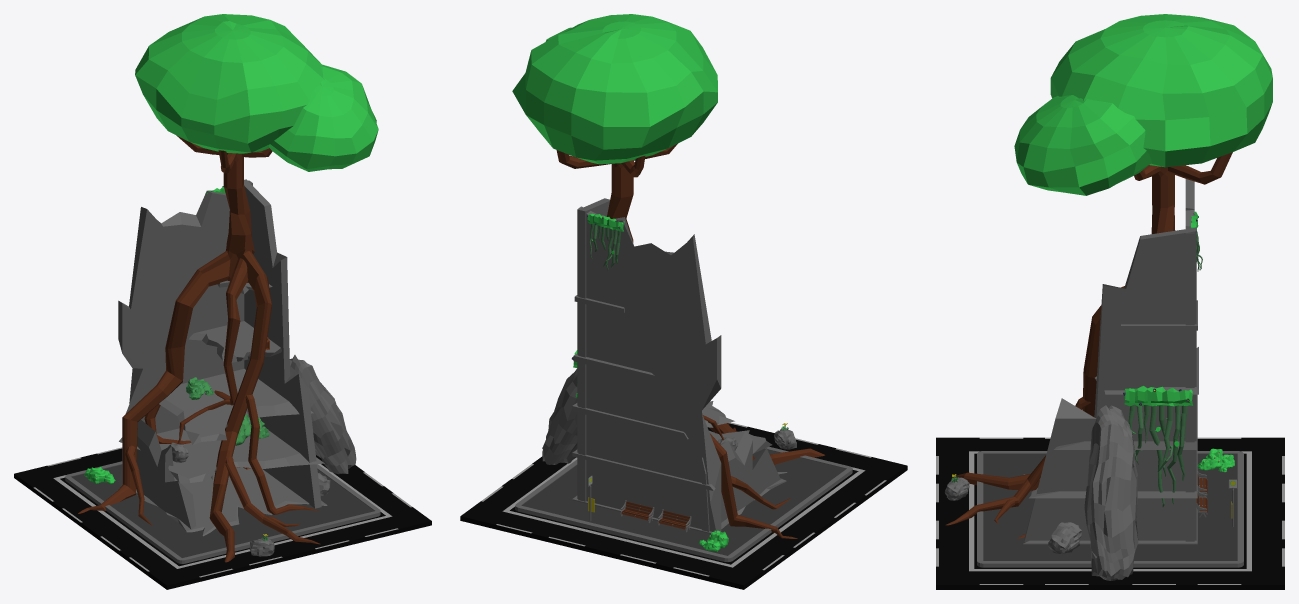
File: RuinTileFertig.glb
3 renders of one model, left to right at view 1: azimuth 30°, elevation 25°; view 2: azimuth 150°, elevation 25°; view 3: azimuth 270°, elevation 25°, orthographic. The views are drawn at different scales.
Parts seen in each view (by area): view 1: BaumKrone, StammeRuin-col, Wall2-col, StreetRuin-col, SideWalkRuin-col, Wall1-col, BaumKrone.001, Floor2-col, Floor1-col, Floor0EG-col, RockRuin3-col, Wall3-col (+1 smaller); view 2: Wall2-col, BaumKrone, StreetRuin-col, SideWalkRuin-col, StammeRuin-col, Wall1-col, Wall3-col, RockRuin3-col, Floor1-col, Floor2-col, TentakelRanke.002, Floor3-col; view 3: BaumKrone, Wall1-col, StreetRuin-col, SideWalkRuin-col, BaumKrone.001, RockRuin3-col, StammeRuin-col, TentakelRanke.001, Wall2-col, Floor1-col, RockRuin5-col, Floor2-col (+3 smaller).
Boxes of the visible parts, bbox=[...] form: BaumKrone: bbox=[135, 14, 325, 153]; StammeRuin-col: bbox=[78, 135, 320, 562]; Wall2-col: bbox=[118, 180, 252, 485]; StreetRuin-col: bbox=[14, 447, 431, 589]; SideWalkRuin-col: bbox=[65, 461, 380, 563]; Wall1-col: bbox=[244, 179, 321, 508]; BaumKrone.001: bbox=[269, 64, 378, 171]; Floor2-col: bbox=[159, 368, 313, 444]; Floor1-col: bbox=[119, 426, 324, 483]; Floor0EG-col: bbox=[118, 467, 327, 536]; RockRuin3-col: bbox=[289, 355, 356, 474]; Wall3-col: bbox=[136, 419, 196, 529]; Wall2-col: bbox=[577, 206, 721, 531]; BaumKrone: bbox=[512, 14, 717, 164]; StreetRuin-col: bbox=[460, 422, 907, 589]; SideWalkRuin-col: bbox=[515, 446, 852, 561]; StammeRuin-col: bbox=[556, 143, 824, 538]; Wall1-col: bbox=[578, 198, 609, 501]; Wall3-col: bbox=[702, 431, 780, 531]; RockRuin3-col: bbox=[542, 368, 577, 464]; Floor1-col: bbox=[572, 430, 772, 490]; Floor2-col: bbox=[572, 401, 734, 439]; TentakelRanke.002: bbox=[587, 213, 624, 270]; Floor3-col: bbox=[573, 354, 657, 381]; BaumKrone: bbox=[1050, 14, 1272, 167]; Wall1-col: bbox=[1024, 227, 1196, 541]; StreetRuin-col: bbox=[936, 437, 1284, 589]; SideWalkRuin-col: bbox=[977, 451, 1243, 567]; BaumKrone.001: bbox=[1014, 95, 1151, 195]; RockRuin3-col: bbox=[1084, 405, 1138, 580]; StammeRuin-col: bbox=[945, 152, 1232, 538]; TentakelRanke.001: bbox=[1123, 386, 1192, 506]; Wall2-col: bbox=[1185, 179, 1194, 541]; Floor1-col: bbox=[1029, 450, 1197, 498]; RockRuin5-col: bbox=[1048, 522, 1081, 554]; Floor2-col: bbox=[1054, 394, 1197, 449].
Size of the model in its own units: 132 by 208 by 128.
Materials: 1 (1 with a texture image).
